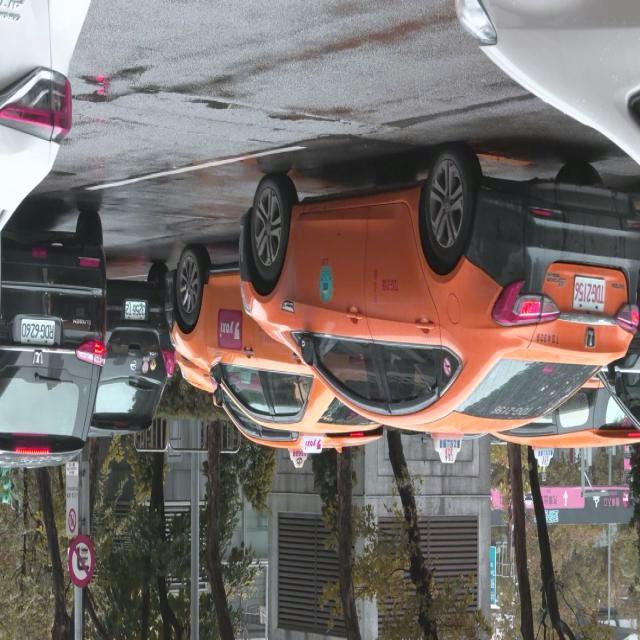taxi: (233, 111, 640, 445), (144, 248, 372, 456), (507, 385, 637, 467)
